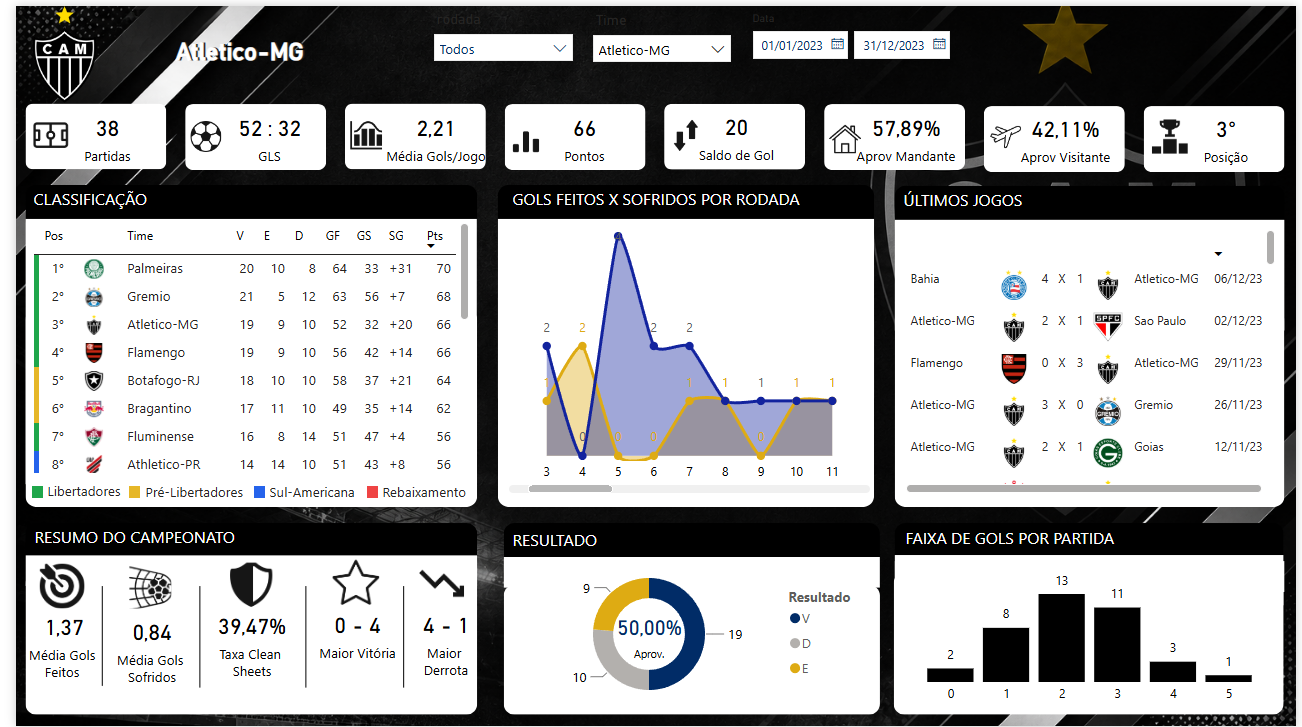

Layout of this report page (visuals, bound fields, positions):
{"tool":"powerbi","page":{"name":"brasileirao","canvas":[1280,720],"ordinal":0},"visuals":[{"type":"image","box":[0,0,1280,720],"z":0},{"type":"slicer","fields":{"Values":["dCalendário.Data"]},"box":[724.4,0.9,228.8,87.8],"z":1000},{"type":"slicer","fields":{"Values":["dTimeFiltro.Time"]},"box":[566.6,0.9,158,64.3],"z":2000},{"type":"slicer","fields":{"Values":["fBrasileirao.rodata"]},"box":[407.9,0,158.7,76.3],"z":3000},{"type":"areaChart","fields":{"Category":["fBrasileirao.rodata"],"Y":["Medidas.Gols Sofridos Filtro","Medidas.Gols Feitos Filtro"]},"box":[487.6,211.7,371.3,280.4],"z":4000},{"type":"tableEx","fields":{"Values":["fBrasileirao.mandante","dTimeMandante.logo","fBrasileirao.mandante_Placar","fBrasileirao.X","fBrasileirao.visitante_Placar","dTimeVisitante.logo","fBrasileirao.visitante","fBrasileirao.data"]},"box":[884.4,219.4,380.1,272.6],"z":5000},{"type":"card","fields":{"Values":["Medidas.Partidas Filtro"]},"box":[21,97,141,66],"z":6000},{"type":"card","fields":{"Values":["Medidas.Pontos Filtro"]},"box":[498,97,141,67],"z":7000},{"type":"card","fields":{"Values":["Medidas.Saldo de Gol Filtro"]},"box":[650,96,141,67],"z":8000},{"type":"tableEx","fields":{"Values":["Medidas.dumb","Medidas.POS","dTime.logo","dTime.time","Medidas.Vitórias","Medidas.Empates","Medidas.Derrotas","Medidas.Gols Feitos","Medidas.Gols Sofridos","Medidas.Saldo de Gol Formatado","Medidas.Total pontos"]},"box":[11.5,211.9,446.9,259.8],"z":9000},{"type":"card","fields":{"Values":["Medidas.Posição Filtro Format"]},"box":[1140,98,140,67],"z":10000},{"type":"card","fields":{"Values":["Medidas.Aproveitamento Visitante Filtro"]},"box":[979,98,141,66],"z":11000},{"type":"card","fields":{"Values":["Medidas.GLS Filtro"]},"box":[183,97,141,66],"z":12000},{"type":"card","fields":{"Values":["Medidas.Média Gols por Jogo Filtro"]},"box":[364,97,112,67],"z":13000},{"type":"donutChart","fields":{"Category":["dResultado.Resultado"],"Y":["Medidas.Total Resultado Filtro"]},"box":[487.6,549.7,371.3,156.3],"z":14000},{"type":"card","fields":{"Values":["Medidas.Aproveitamento Filtro"]},"box":[592,593,82,73],"z":15000},{"type":"card","fields":{"Values":["Medidas.Média Gols Feitos Filtro"]},"box":[4,547,88,164],"z":16000},{"type":"card","fields":{"Values":["Medidas.Média Gols Sofridos Filtro"]},"box":[87.5,549.3,96.4,170.7],"z":17000},{"type":"card","fields":{"Values":["Medidas.Taxa Clean Sheets Filtro"]},"box":[191.7,549.7,88,156.3],"z":18000},{"type":"columnChart","fields":{"Category":["fBrasileirao.Faixa_gols"],"Y":["Medidas.Partidas Filtro"]},"box":[884.4,549.7,380.1,156.3],"z":19000},{"type":"card","fields":{"Values":["Medidas.Maior Vitória Filtro"]},"box":[297,546.4,88.7,162.9],"z":20000},{"type":"card","fields":{"Values":["Medidas.Maior Derrota Filtro"]},"box":[385.7,546.4,88,162.9],"z":21000},{"type":"card","fields":{"Values":["Medidas.Aproveitamento Mandante Filtro"]},"box":[827,97,126,67],"z":22000},{"type":"textbox","box":[13.3,177.3,175.1,42.1],"z":23000},{"type":"textbox","box":[492.1,177.3,317,42.1],"z":24000},{"type":"textbox","box":[883.3,178.4,233.8,42.1],"z":25000},{"type":"textbox","box":[885.5,516.4,233.8,42.1],"z":26000},{"type":"textbox","box":[492.1,517.5,233.8,42.1],"z":27000},{"type":"textbox","box":[14.4,515.3,233.8,42.1],"z":28000},{"type":"textbox","box":[27.1,471.2,91.3,28.4],"z":29000},{"type":"shape","box":[16.4,479.9,10.6,12.6],"z":30000},{"type":"shape","box":[113.2,479.9,10.6,12.6],"z":31000},{"type":"textbox","box":[124.8,472.1,123.8,28.1],"z":32000},{"type":"shape","box":[238,479.9,10.6,12.6],"z":33000},{"type":"textbox","box":[248.6,472.1,108.4,28.1],"z":34000},{"type":"shape","box":[351.2,479.9,10.6,12.6],"z":35000},{"type":"textbox","box":[361.8,472.1,102.6,28.1],"z":36000},{"type":"card","fields":{"Values":["Medidas.Nome Time"]},"box":[126,0,199,89],"z":37000},{"type":"card","fields":{"Values":["Medidas.Nome Time"]},"box":[124,0,199,89],"z":38000}]}

Visuals, with their boxes in screenshot pixels (x1, y1, x2, y2), scaled from the page's 1280x720 canvas onto the 1302x727 screenshot:
image: bbox(0, 0, 1301, 726)
slicer - dCalendário.Data: bbox(737, 1, 970, 90)
slicer - dTimeFiltro.Time: bbox(576, 1, 737, 66)
slicer - fBrasileirao.rodata: bbox(415, 0, 576, 77)
areaChart - fBrasileirao.rodata x Medidas.Gols Sofridos Filtro: bbox(496, 214, 874, 497)
tableEx - fBrasileirao.mandante x dTimeMandante.logo: bbox(900, 222, 1286, 497)
card - Medidas.Partidas Filtro: bbox(21, 98, 165, 165)
card - Medidas.Pontos Filtro: bbox(507, 98, 650, 166)
card - Medidas.Saldo de Gol Filtro: bbox(661, 97, 805, 165)
tableEx - Medidas.dumb x Medidas.POS: bbox(12, 214, 466, 476)
card - Medidas.Posição Filtro Format: bbox(1160, 99, 1301, 167)
card - Medidas.Aproveitamento Visitante Filtro: bbox(996, 99, 1139, 166)
card - Medidas.GLS Filtro: bbox(186, 98, 330, 165)
card - Medidas.Média Gols por Jogo Filtro: bbox(370, 98, 484, 166)
donutChart - dResultado.Resultado x Medidas.Total Resultado Filtro: bbox(496, 555, 874, 713)
card - Medidas.Aproveitamento Filtro: bbox(602, 599, 686, 672)
card - Medidas.Média Gols Feitos Filtro: bbox(4, 552, 94, 718)
card - Medidas.Média Gols Sofridos Filtro: bbox(89, 555, 187, 726)
card - Medidas.Taxa Clean Sheets Filtro: bbox(195, 555, 285, 713)
columnChart - fBrasileirao.Faixa_gols x Medidas.Partidas Filtro: bbox(900, 555, 1286, 713)
card - Medidas.Maior Vitória Filtro: bbox(302, 552, 392, 716)
card - Medidas.Maior Derrota Filtro: bbox(392, 552, 482, 716)
card - Medidas.Aproveitamento Mandante Filtro: bbox(841, 98, 969, 166)
textbox: bbox(14, 179, 192, 222)
textbox: bbox(501, 179, 823, 222)
textbox: bbox(898, 180, 1136, 223)
textbox: bbox(901, 521, 1139, 564)
textbox: bbox(501, 523, 738, 565)
textbox: bbox(15, 520, 252, 563)
textbox: bbox(28, 476, 120, 504)
shape: bbox(17, 485, 27, 497)
shape: bbox(115, 485, 126, 497)
textbox: bbox(127, 477, 253, 505)
shape: bbox(242, 485, 253, 497)
textbox: bbox(253, 477, 363, 505)
shape: bbox(357, 485, 368, 497)
textbox: bbox(368, 477, 472, 505)
card - Medidas.Nome Time: bbox(128, 0, 331, 90)
card - Medidas.Nome Time: bbox(126, 0, 329, 90)
